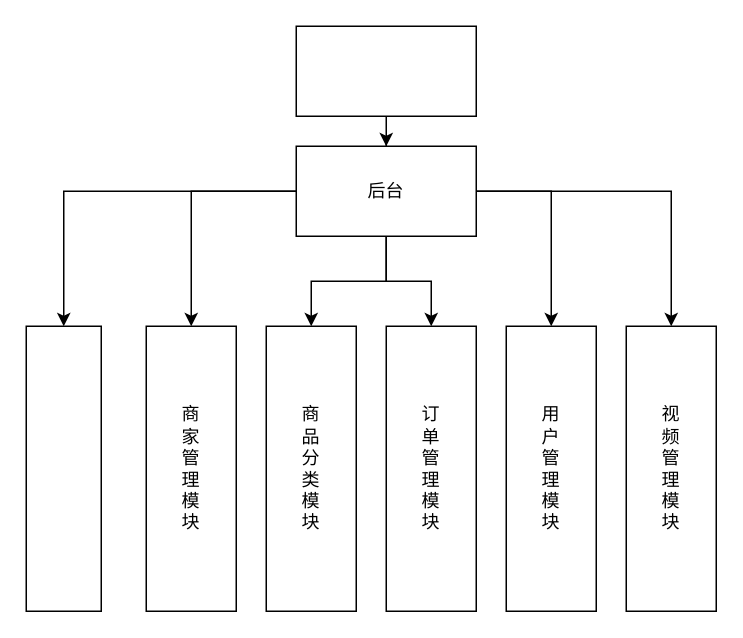
Image size: 743x638. Some labels were removed from this diagram. Each missing label, with the centre of its shape:
"epet宠物商城" belongs at (385,70).
"商 品 管 理 模 块" belongs at (63,468).
